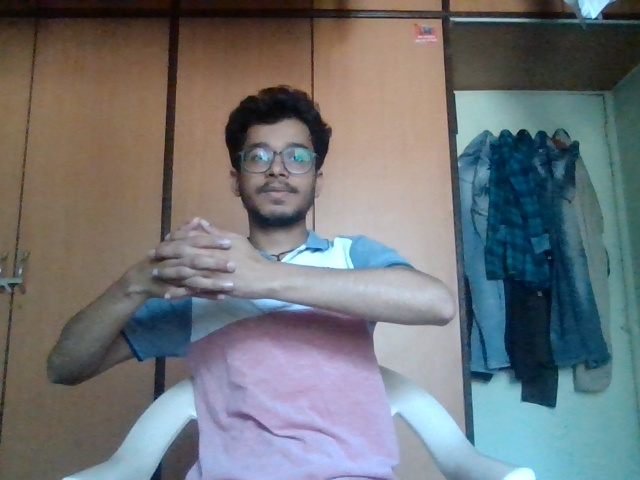good: (139, 195, 260, 323)
